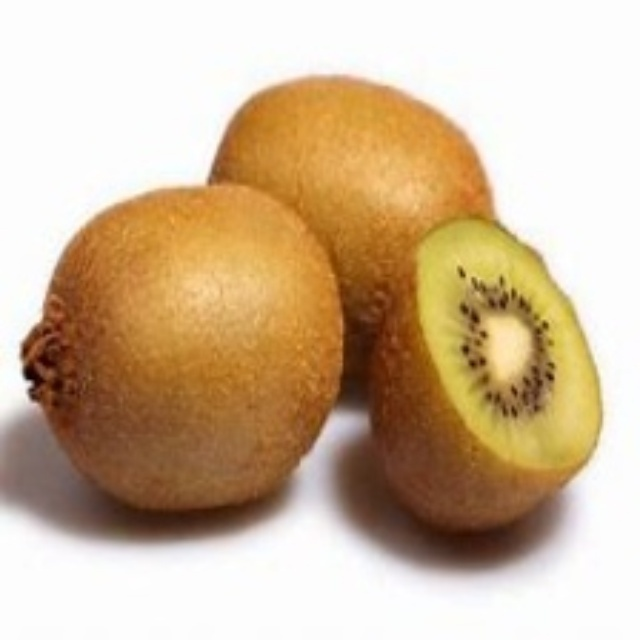kiwi: (22, 186, 344, 518), (371, 218, 609, 540), (212, 72, 495, 330)
